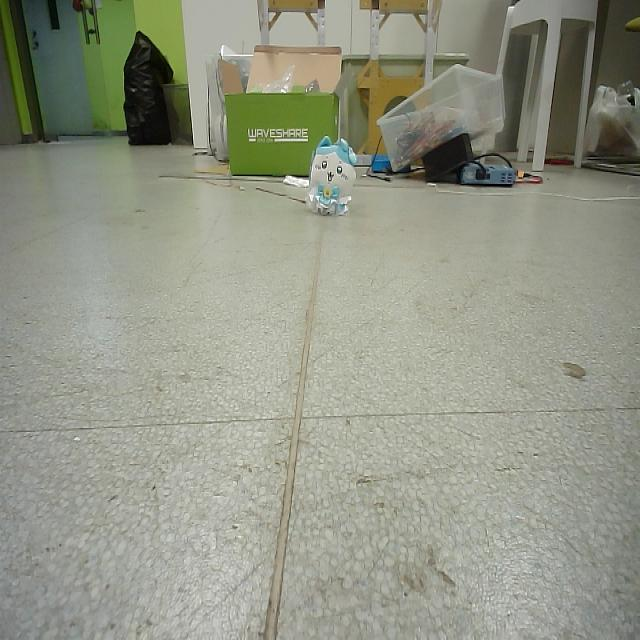xiaoba: (306, 130, 358, 217)
